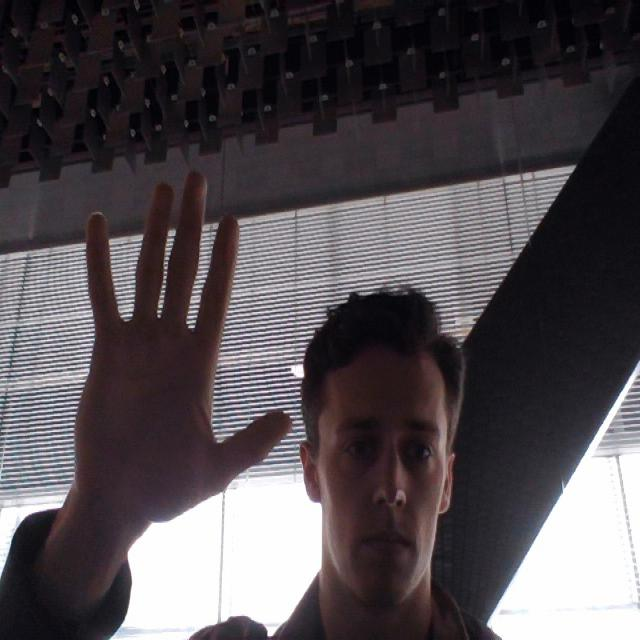backward: (61, 155, 304, 548)
